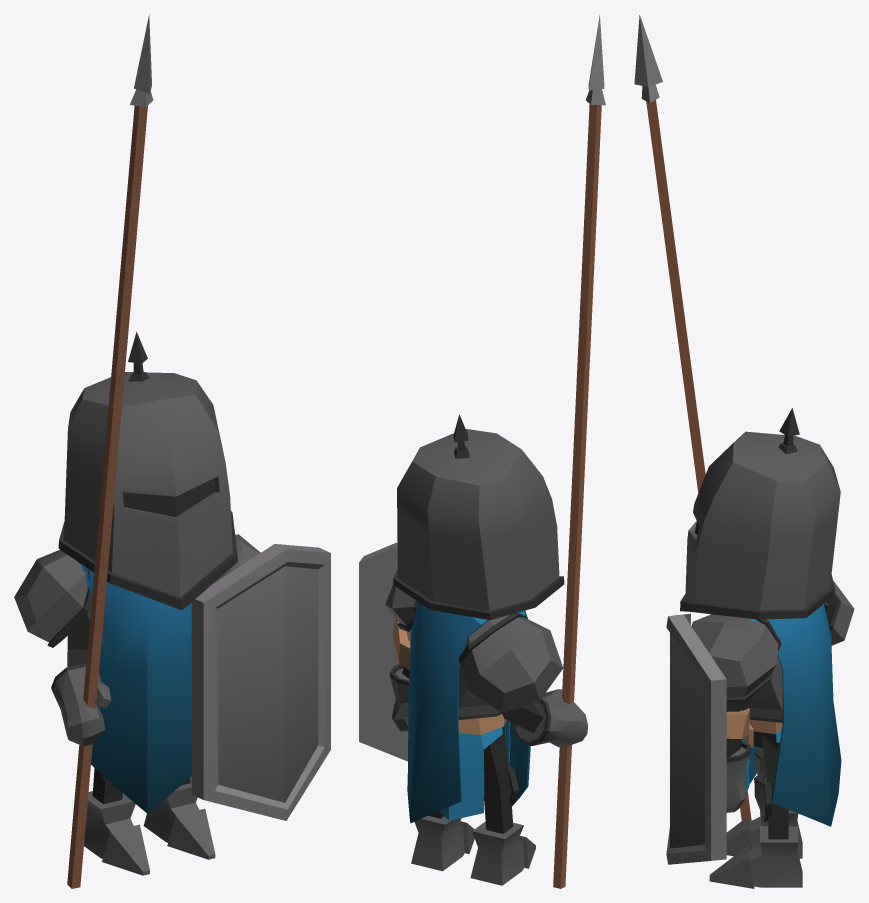
File: Warrior_8.fbx
3 views of the same model, side by side, from view 1: azimuth 30°, elevation 25°; view 2: azimuth 150°, elevation 25°; view 3: azimuth 270°, elevation 25° (orthographic). The views are drawn at different scales.
Visible parts, largest first — view 1: Warrior_8; view 2: Warrior_8; view 3: Warrior_8.
Part boxes in pixels (x1=…): Warrior_8: x1=14, y1=14, x2=330, y2=888; Warrior_8: x1=359, y1=14, x2=605, y2=888; Warrior_8: x1=634, y1=15, x2=854, y2=888.
Size of the model in its own units: 71.67 by 243 by 58.14.
